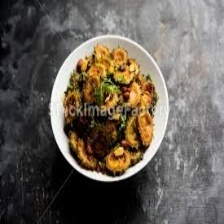sabzi: (60, 43, 158, 175)
